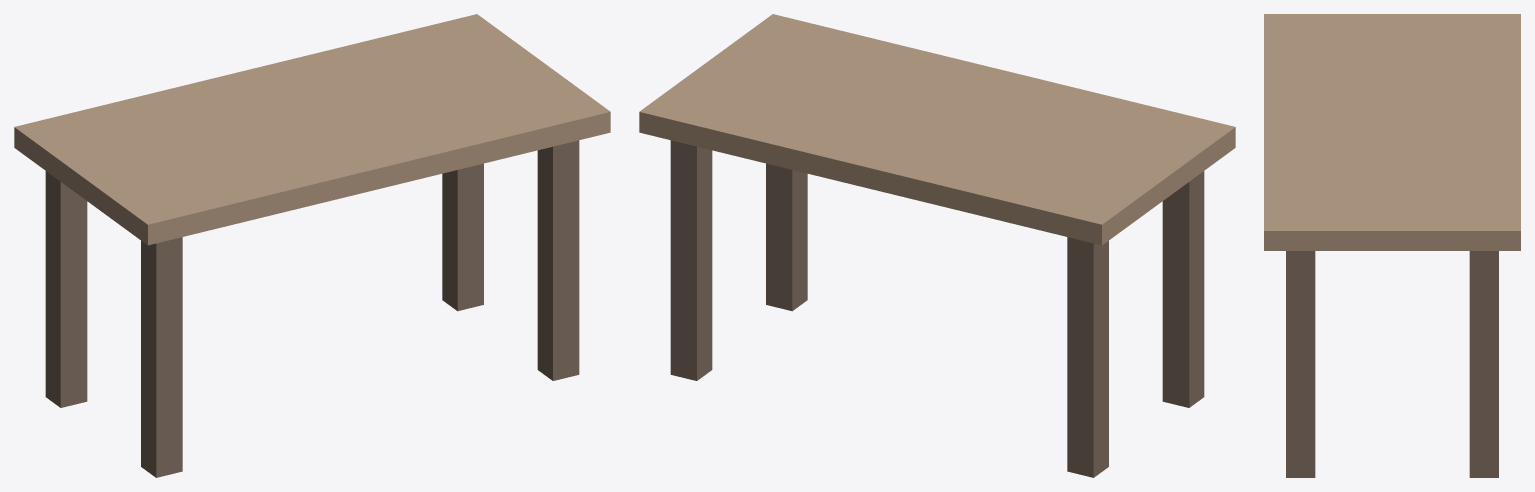
File: desk_basic.glb
3 renders of one model, left to right at view 1: azimuth 30°, elevation 25°; view 2: azimuth 150°, elevation 25°; view 3: azimuth 270°, elevation 25°, orthographic. The views are drawn at different scales.
Parts seen in each view (by area): view 1: p000, p002, p001, p003, p004; view 2: p000, p004, p003, p001, p002; view 3: p000, p002, p004.
Boxes of the visible parts, box(x1,y1,x2,y2) form: p000: box(14, 14, 610, 245); p002: box(537, 140, 579, 380); p001: box(141, 237, 182, 477); p003: box(45, 171, 87, 407); p004: box(442, 163, 483, 311); p000: box(639, 14, 1235, 245); p004: box(670, 140, 712, 380); p003: box(1067, 237, 1108, 477); p001: box(1162, 171, 1204, 407); p002: box(766, 163, 807, 311); p000: box(1264, 14, 1520, 250); p002: box(1286, 251, 1315, 477); p004: box(1469, 251, 1498, 477).
Bounding box in the file's own units: 1.4 × 0.77 × 0.7.
